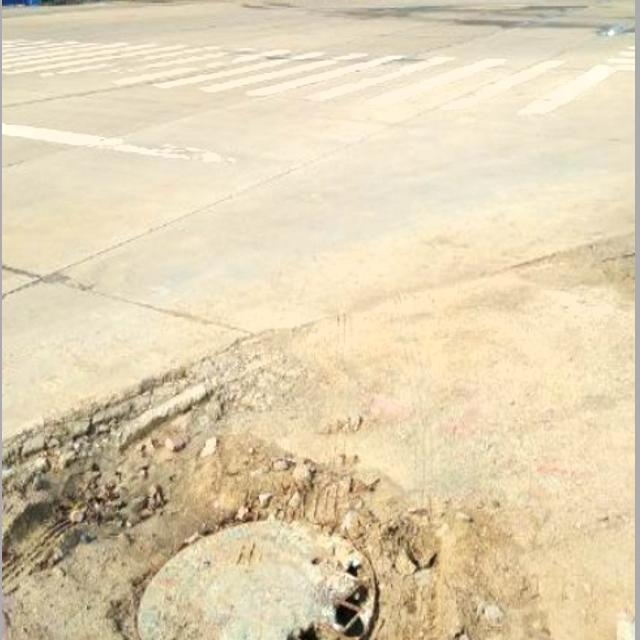broke: (133, 520, 377, 640)
